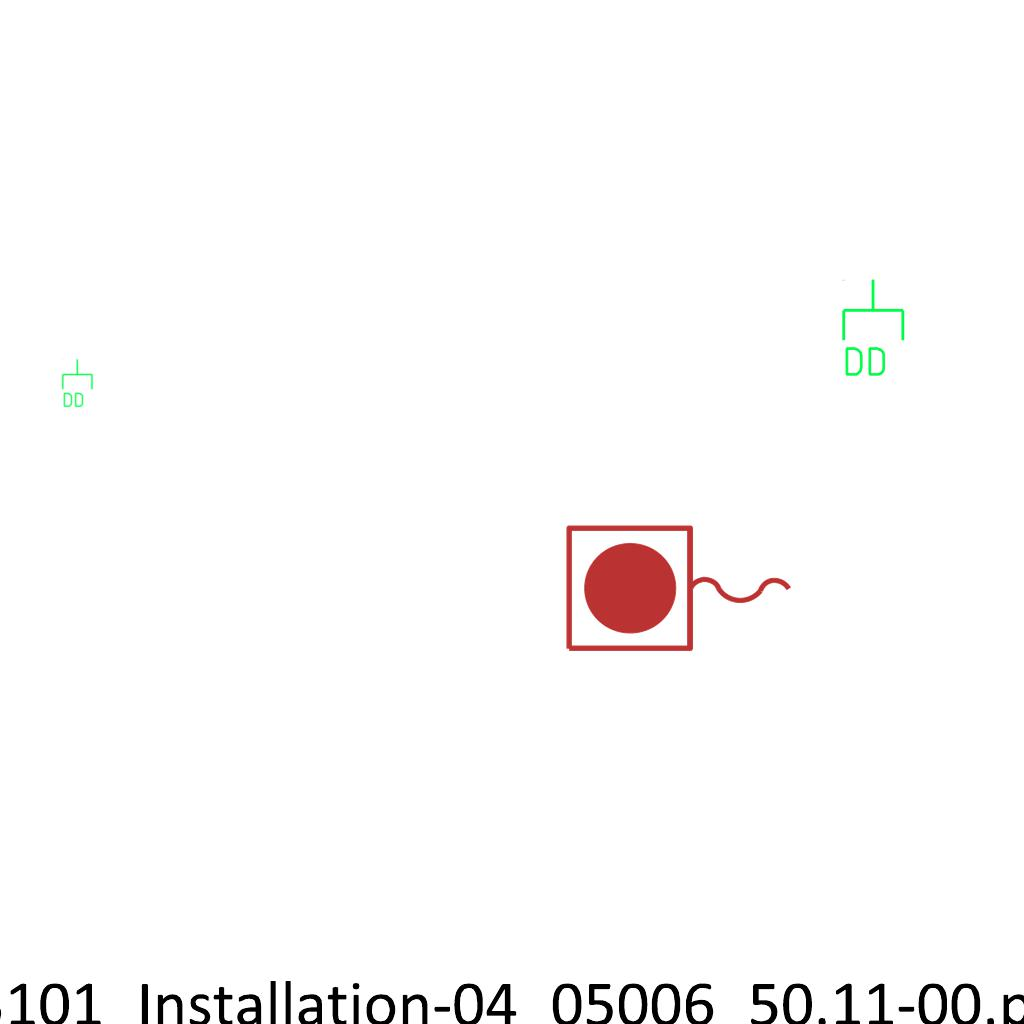Datenanschluss_zweifach: (838, 277, 907, 380), (60, 358, 94, 409)
Zugtaster: (558, 518, 802, 662)
